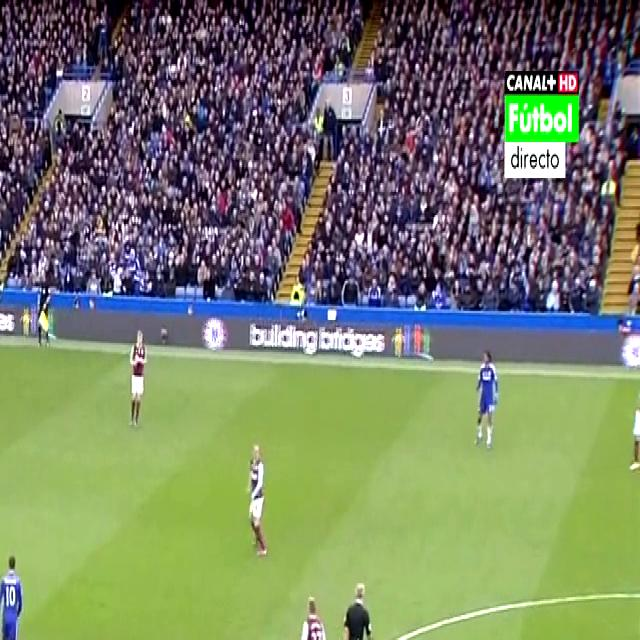referee: (340, 569, 383, 640), (29, 251, 59, 348)
soccer-player: (240, 431, 272, 564), (467, 340, 503, 456), (122, 324, 150, 434), (0, 544, 27, 640), (290, 592, 330, 640), (624, 389, 638, 484)
